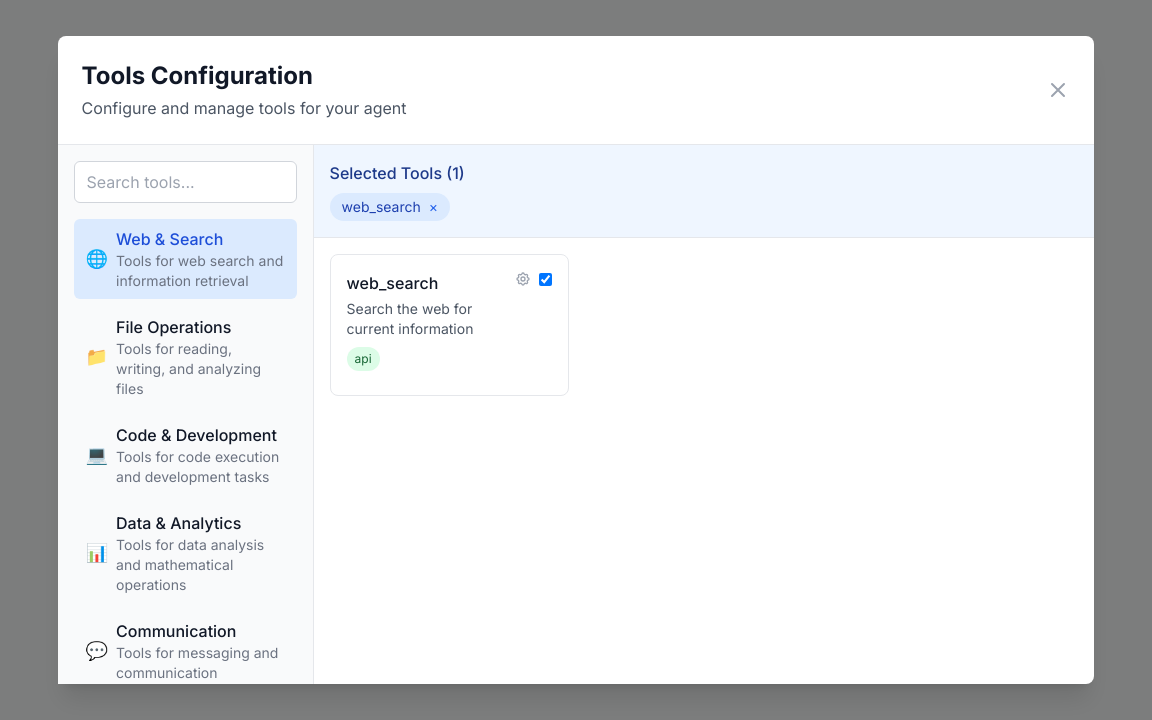
Test: ToolsConfigurationPanel › Tool Search › should show no results message when no tools match
Type "nonexistent" into the field with test id "tools-search" at (185, 182), box [74,161,297,203]
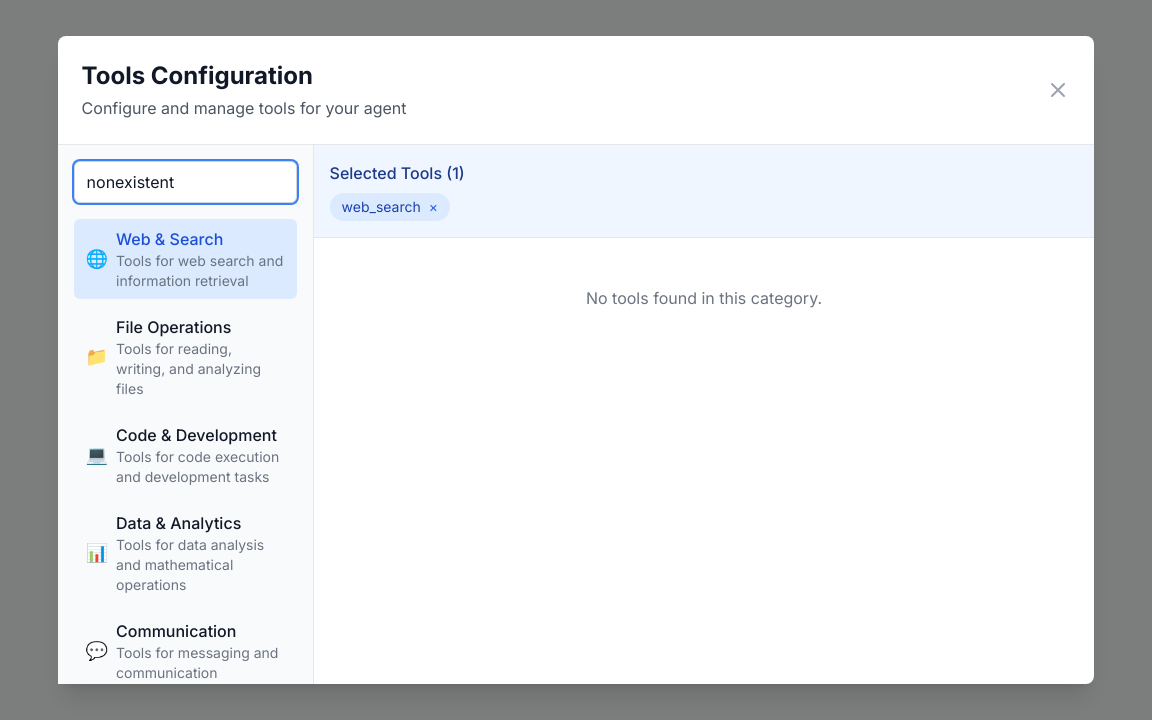
Expected: the text "No tools found in this category." is shown, [586,288,822,308]
